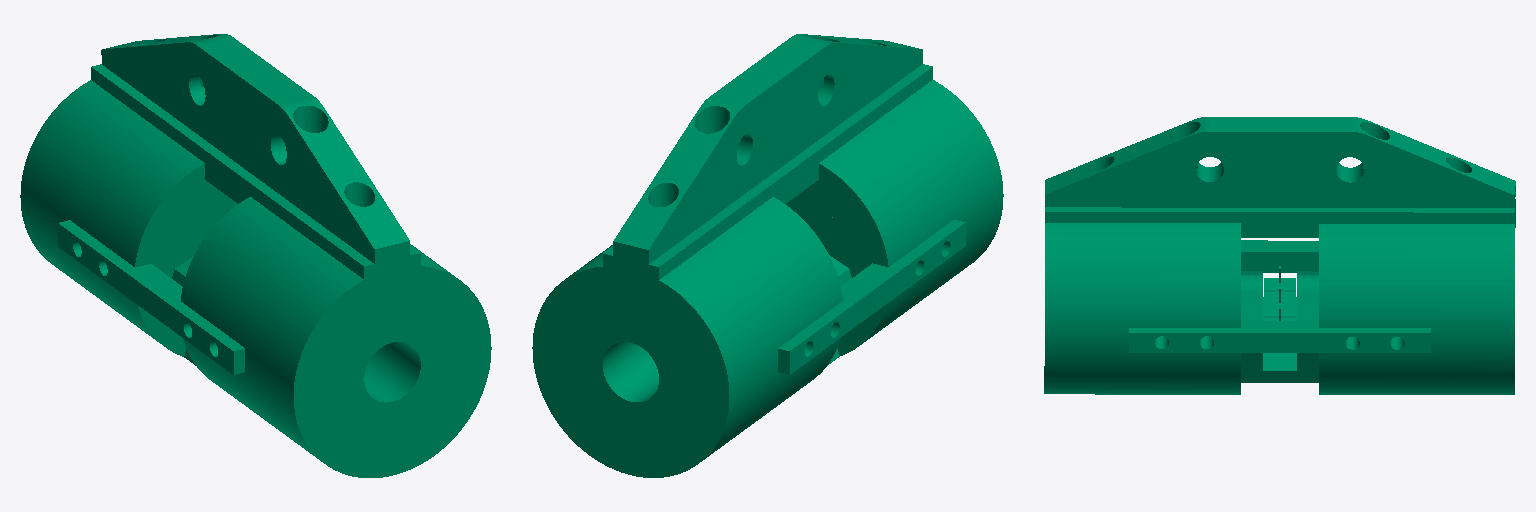
robot.urdf — 6dof:
<robot name="6dof">


    <link name="left_thigh">



        <visual>
            <geometry>
                <mesh filename="package://six_dof/meshes/leftthighv6.stl" scale="0.001 0.001 0.001"/>
                <!--leftthighv5-->
            </geometry>
        </visual>

        <collision>
            <geometry>
                <mesh filename="package://six_dof/meshes/leftthighv6.stl" scale="0.001 0.001 0.001"/>
            </geometry>
        </collision>
    </link>


    <link name="left_shin">
        <visual>
            <geometry>
                <mesh filename="package://six_dof/meshes/rightshinv3.stl" scale="0.001 0.001 0.001"/>
            </geometry>
        </visual>
    </link>



    <link name="left_foot">
        <visual>
            <geometry>
                <mesh filename="package://six_dof/meshes/leftfoot.stl" scale="0.001 0.001 0.001"/>
            </geometry>
        </visual>
    </link>


    <link name="body">
        <visual>
            <geometry>
                <mesh filename="package://six_dof/meshes/chassisv2.stl" scale="0.001 0.001 0.001"/>
            </geometry>
        </visual>
    </link>


    <link name="right_thigh">
        <visual>
            <geometry>
                <mesh filename="package://six_dof/meshes/rightthighv8.stl" scale="0.001 0.001 0.001"/>
            </geometry>
        </visual>
    </link>

    <link name="right_shin">
        <visual>
            <geometry>
                <mesh filename="package://six_dof/meshes/rightshinv4.stl" scale="0.01 0.01 0.01"/>
            </geometry>
        </visual>
    </link>

    <link name="right_foot">
        <visual>
            <geometry>
                <mesh filename="package://six_dof/meshes/rightfoot.stl" scale="0.001 0.001 0.001"/>
            </geometry>
        </visual>
    </link>


    <joint name="right_foot_shin" type="revolute">
        <parent link="right_foot"/>
        <child link="right_shin"/>
        <origin xyz="0.005 0.025 0.0265" rpy="1.57 0 0"/>
        <axis  xyz = " 1 0 0"/>
        <limit effort="35.0" lower="-0.26" upper="0.52" velocity="0.1"/>
    </joint>

    <joint name="right_shin_thigh" type="revolute">
        <parent link="right_shin"/>
        <child link="right_thigh"/>
        <origin xyz="0.0125 0.130 0" rpy="0 0 0"/>
        <axis  xyz = " 1 0 0"/>
        <limit effort="35.0" lower="-0.26" upper="0.52" velocity="0.1"/>
    </joint>

    <joint name="right_thigh_body" type="revolute">
        <parent link="right_thigh"/>
        <child link="body"/>
        <origin xyz="-0.0025 0.160 0" rpy="0 3.14 0"/>
        <axis  xyz = " 1 0 0"/>
        <limit effort="35.0" lower="-0.26" upper="0.52" velocity="0.1"/>
    </joint>

    <joint name="body_left_thigh" type="revolute">
        <parent link="body"/>
        <child link="left_thigh"/>
        <origin xyz="0.10 0 0" rpy="0 0 0"/>
        <axis  xyz = " 1 0 0"/>
        <limit effort="35.0" lower="-0.26" upper="0.52" velocity="0.1"/>
    </joint>

    <joint name="left_thigh_shin" type="revolute">
        <parent link="left_thigh"/>
        <child link="left_shin"/>
        <origin xyz="0.047 -0.160 0" rpy="0 0 0"/>
        <axis  xyz = " 1 0 0"/>
        <limit effort="35.0" lower="-0.26" upper="0.52" velocity="0.1"/>
    </joint>

    <joint name="left_shin_foot" type="revolute">
        <parent link="left_shin"/>
        <child link="left_foot"/>
        <origin xyz="-0.022 -0.1565 0.0265" rpy="-1.57 0 0"/>
        <axis  xyz = " 1 0 0"/>
        <limit effort="35.0" lower="-0.26" upper="0.52" velocity="0.1"/>
    </joint>


</robot>

--- Facts derived from the render (not from the file) ---
Views: 3 orthographic renders of the robot side by side, from view 1: azimuth 30°, elevation 25°; view 2: azimuth 150°, elevation 25°; view 3: azimuth 270°, elevation 25°.
Robot: 6dof — 7 links, 6 joints (6 revolute); root link right_foot; default pose: all joints at 0.
Links seen in each view (by area): view 1: left_foot; view 2: left_foot; view 3: left_foot.
Boxes of the visible links, x1,y1,x2,y2 form: left_foot: [20, 34, 491, 477]; left_foot: [532, 34, 1003, 477]; left_foot: [1044, 117, 1515, 394].
Size in the robot's own frame: 0.0391 by 0.0841 by 0.0518 metres.
Meshes: 7 distinct files referenced, 1 mesh visuals loaded (1 binary STL); not drawn: 5 (reference not matched to a file when rendering), 1 (file found but could not be loaded).